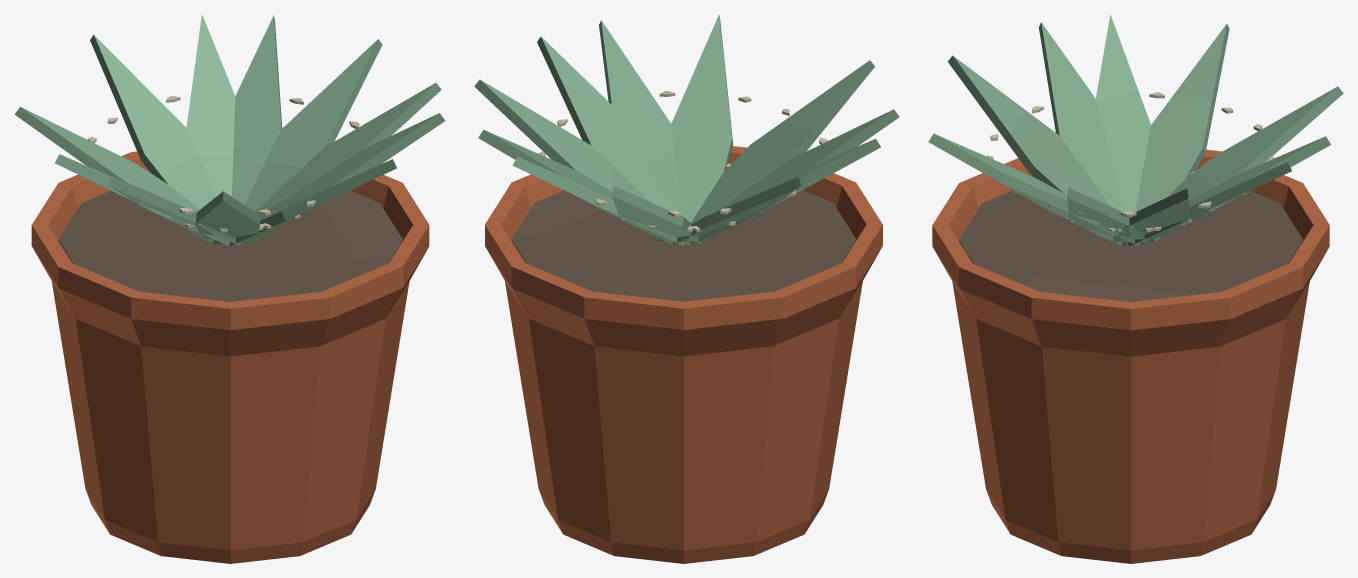
The model's file is agave.glb.
3 views of the same model, side by side, from view 1: azimuth 30°, elevation 25°; view 2: azimuth 150°, elevation 25°; view 3: azimuth 270°, elevation 25° (orthographic).
Visible parts, largest first — view 1: agave/review-terra-vessel, agave/review-rooted-soil, agave/leaf-016, agave/leaf-026, agave/leaf-001, agave/leaf-041, agave/leaf-051, agave/leaf-031, agave/leaf-011, agave/leaf-021, agave/leaf-036, agave/leaf-046 (+1 smaller); view 2: agave/review-terra-vessel, agave/review-rooted-soil, agave/leaf-036, agave/leaf-021, agave/leaf-011, agave/leaf-051, agave/leaf-026, agave/leaf-046, agave/leaf-016, agave/leaf-031, agave/leaf-001, agave/leaf-006 (+1 smaller); view 3: agave/review-terra-vessel, agave/review-rooted-soil, agave/leaf-031, agave/leaf-021, agave/leaf-046, agave/leaf-006, agave/leaf-016, agave/leaf-036, agave/leaf-041, agave/leaf-026, agave/leaf-051, agave/leaf-001 (+1 smaller).
Boxes of the visible parts, x1,y1,x2,y2 form: agave/review-terra-vessel: [31, 151, 429, 563]; agave/review-rooted-soil: [58, 190, 402, 301]; agave/leaf-016: [90, 35, 215, 209]; agave/leaf-026: [245, 39, 382, 211]; agave/leaf-001: [232, 15, 282, 204]; agave/leaf-041: [186, 14, 235, 196]; agave/leaf-051: [255, 83, 441, 240]; agave/leaf-031: [14, 107, 221, 243]; agave/leaf-011: [240, 113, 445, 244]; agave/leaf-021: [194, 191, 260, 241]; agave/leaf-036: [229, 159, 396, 245]; agave/leaf-046: [107, 175, 241, 245]; agave/review-terra-vessel: [485, 146, 882, 563]; agave/review-rooted-soil: [511, 190, 856, 301]; agave/leaf-036: [671, 14, 732, 222]; agave/leaf-021: [691, 60, 874, 237]; agave/leaf-011: [599, 20, 681, 215]; agave/leaf-051: [537, 36, 670, 210]; agave/leaf-026: [474, 79, 664, 241]; agave/leaf-046: [701, 109, 899, 243]; agave/leaf-016: [611, 186, 701, 243]; agave/leaf-031: [673, 177, 801, 245]; agave/leaf-001: [478, 129, 673, 244]; agave/leaf-006: [688, 138, 880, 245]; agave/review-terra-vessel: [932, 149, 1329, 563]; agave/review-rooted-soil: [959, 190, 1303, 302]; agave/leaf-031: [1135, 24, 1229, 211]; agave/leaf-021: [947, 55, 1110, 206]; agave/leaf-046: [1039, 22, 1124, 211]; agave/leaf-006: [1096, 14, 1150, 211]; agave/leaf-016: [1149, 86, 1343, 242]; agave/leaf-036: [928, 133, 1125, 245]; agave/leaf-041: [1139, 136, 1331, 245]; agave/leaf-026: [1111, 188, 1189, 244]; agave/leaf-051: [1066, 187, 1149, 244]; agave/leaf-001: [1127, 162, 1291, 246].
Size of the model in its own units: 0.288 by 0.3019 by 0.2823.
Materials: 4 (4 with a texture image).
